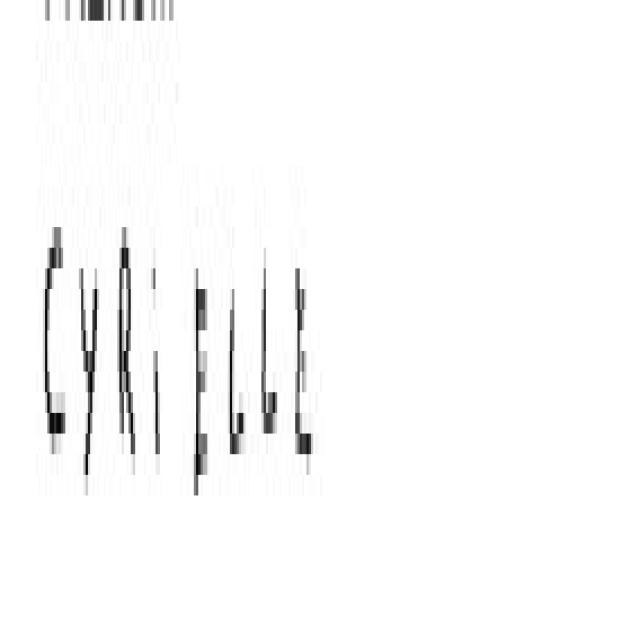C: (42, 74, 74, 600)
E: (290, 122, 318, 621), (186, 193, 213, 594)
I: (148, 185, 168, 594)
L: (255, 169, 282, 616), (224, 153, 247, 573)
R: (111, 169, 142, 600)
Y: (77, 106, 105, 600)
